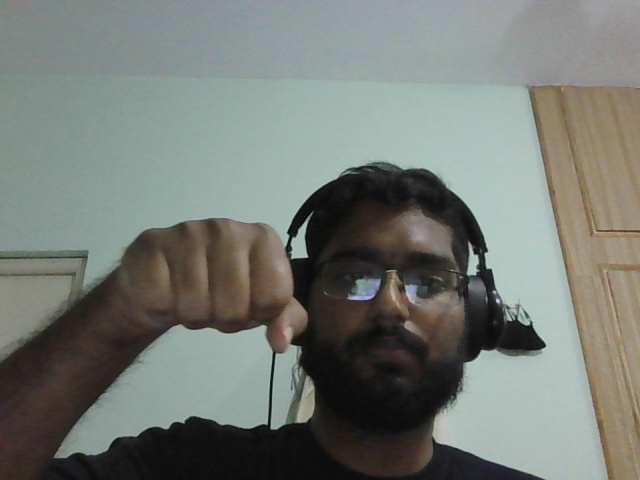Yes: (96, 203, 320, 380)
